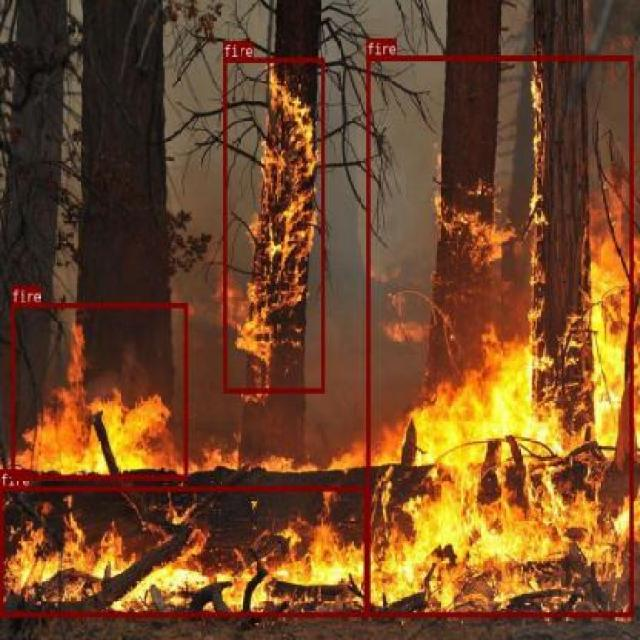fire: (366, 54, 632, 616), (1, 486, 367, 616), (222, 57, 324, 392), (11, 303, 187, 479)
